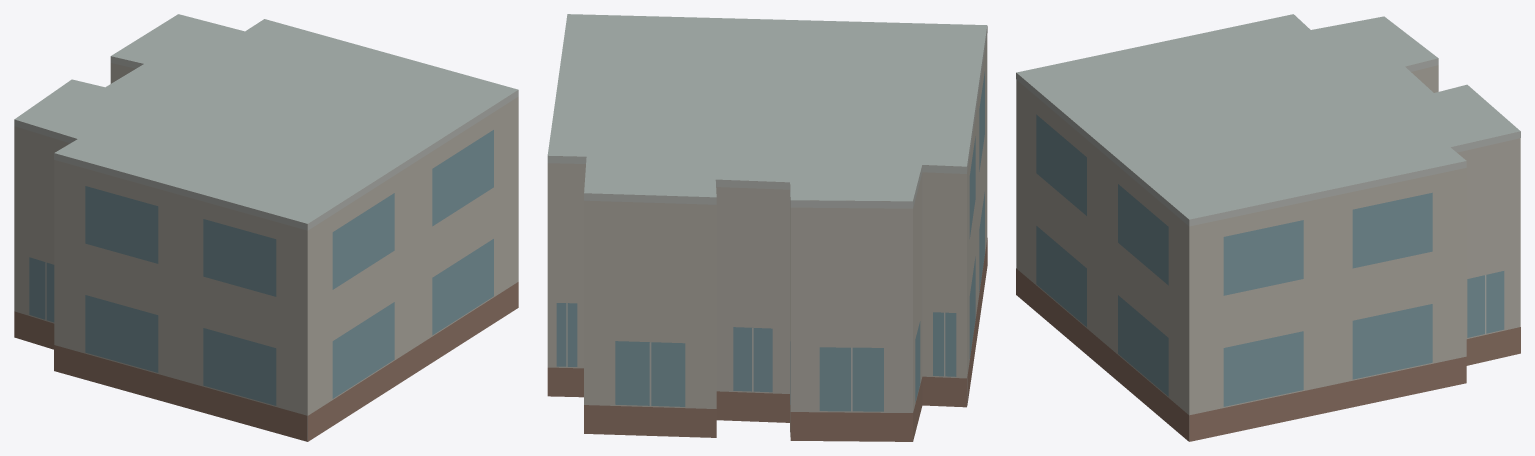
The model's file is survey-upis-32748806.glb.
3 renders of one model, left to right at view 1: azimuth 30°, elevation 25°; view 2: azimuth 150°, elevation 25°; view 3: azimuth 270°, elevation 25°, orthographic. The views are drawn at different scales.
Parts seen in each view (by area): view 1: survey-upis-32748806.tmp; view 2: survey-upis-32748806.tmp; view 3: survey-upis-32748806.tmp.
Boxes of the visible parts, bbox=[...] form: survey-upis-32748806.tmp: bbox=[14, 14, 518, 441]; survey-upis-32748806.tmp: bbox=[547, 14, 987, 441]; survey-upis-32748806.tmp: bbox=[1016, 14, 1520, 441].
Bounding box in the file's own units: 15.69 × 7.9 × 16.27.
